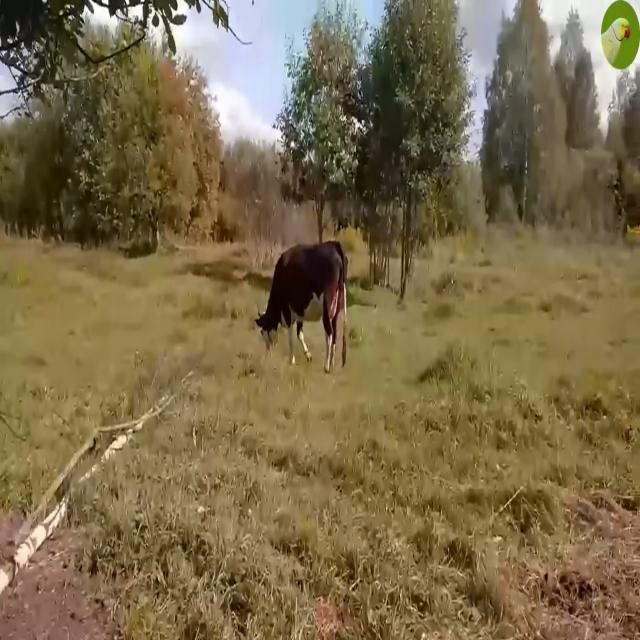cow: (256, 241, 348, 372)
